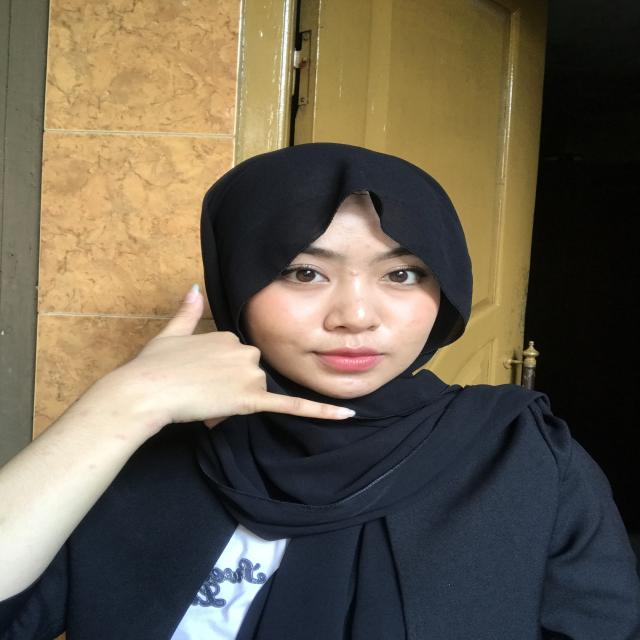telpon: (85, 265, 372, 448)
